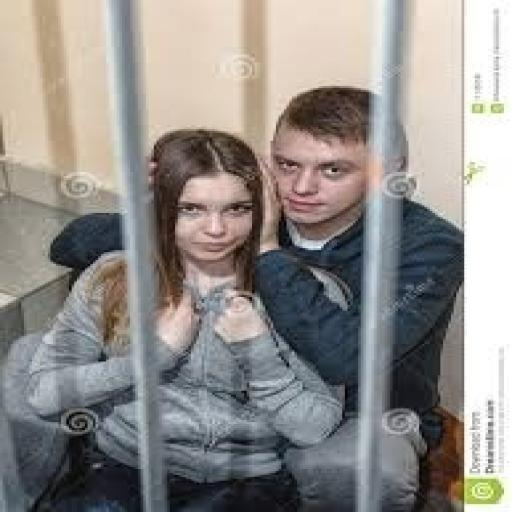sitting: (18, 125, 345, 510), (247, 84, 464, 510)
